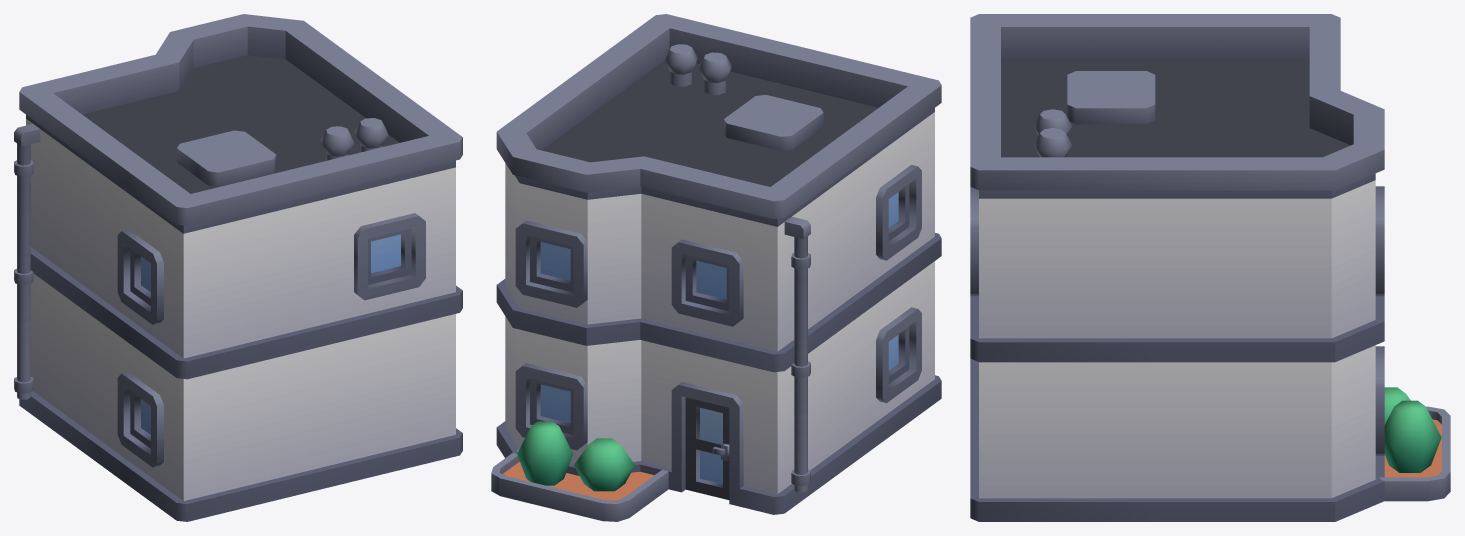
File: cafe_interior.glb
3 views of the same model, side by side, from view 1: azimuth 30°, elevation 25°; view 2: azimuth 150°, elevation 25°; view 3: azimuth 270°, elevation 25° (orthographic). The views are drawn at different scales.
Parts seen in each view (by area): view 1: building-c; view 2: building-c; view 3: building-c.
Part boxes in pixels (<box>): building-c: <box>14,14,462,521</box>; building-c: <box>491,14,941,521</box>; building-c: <box>970,14,1450,521</box>.
Size of the model in its own units: 0.8836 by 0.8931 by 1.09.
Materials: 1 (1 with a texture image).
